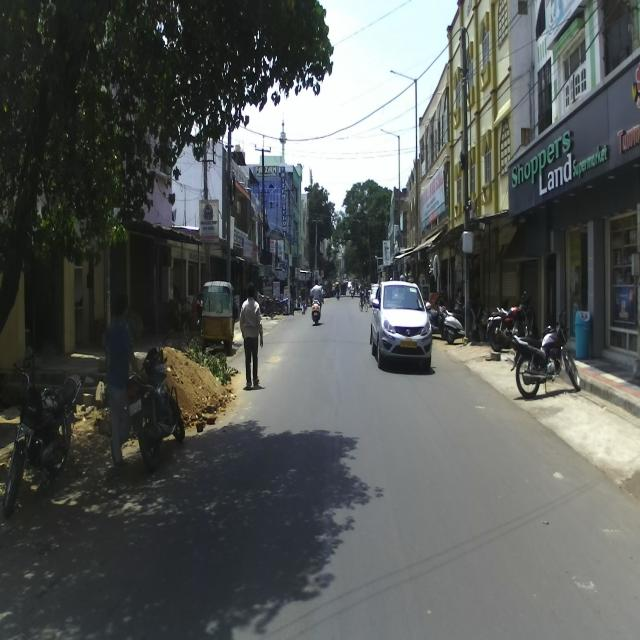high: (242, 280, 264, 395)
